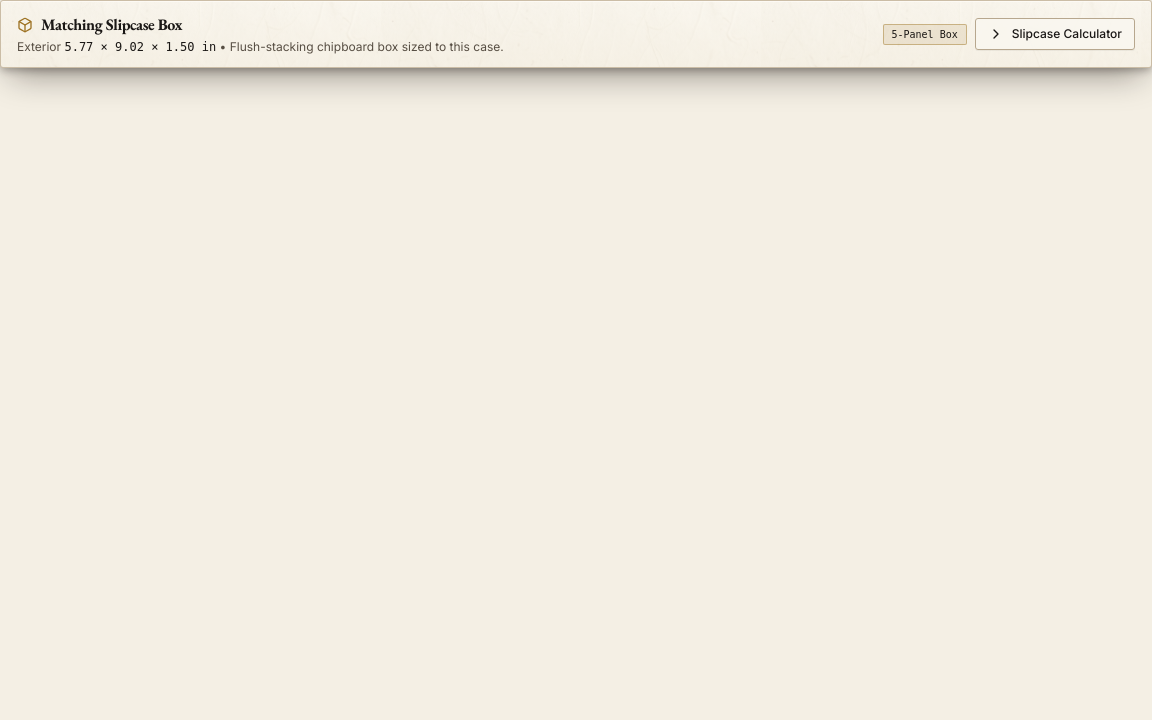
Test: SlipcaseCard › formats slipcase dimensions in inches when unit is set to in
Click the button with test id "toggle-slipcase-calculator".
click(1055, 34)  # box [975,18,1135,50]
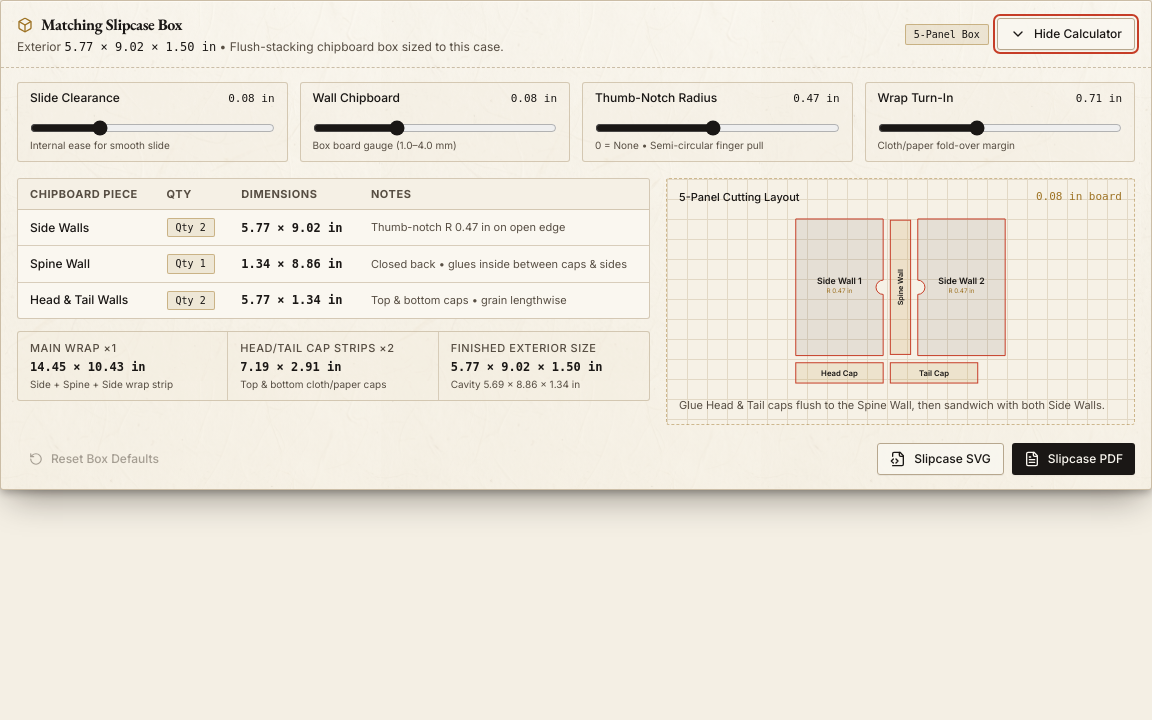
Expected: the cell with test id "slipcase-dim-side-walls" reads "5.77 × 9.02 in", [241,221,342,235]
Expected: the cell with test id "slipcase-dim-spine-wall" reads "1.34 × 8.86 in", [241,257,342,271]
Expected: the element with test id "slipcase-exterior-size" shows "5.77 × 9.02 × 1.50 in", [451,360,602,374]
